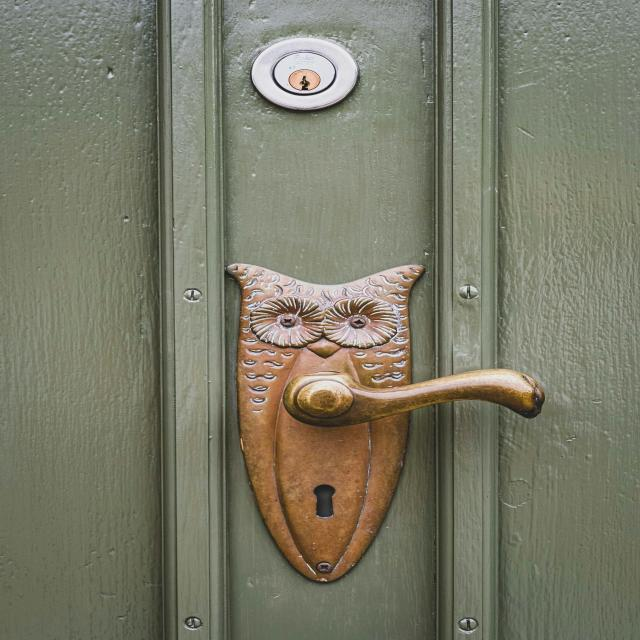door-handle: (283, 369, 546, 428)
